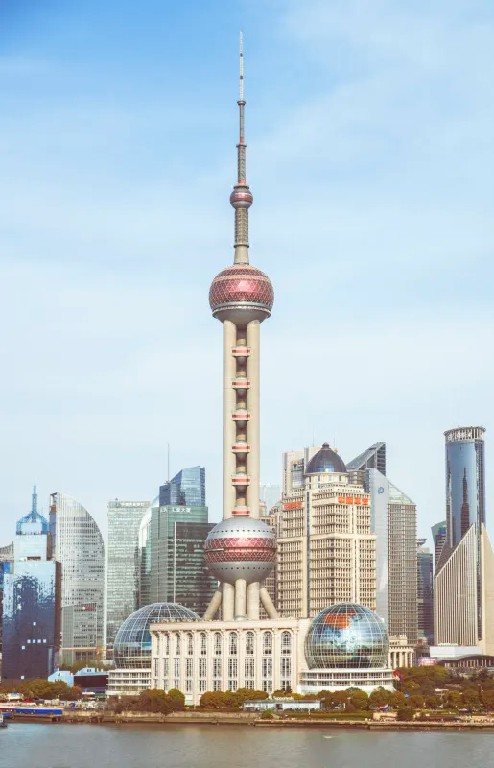Oriental: (202, 30, 281, 621)
